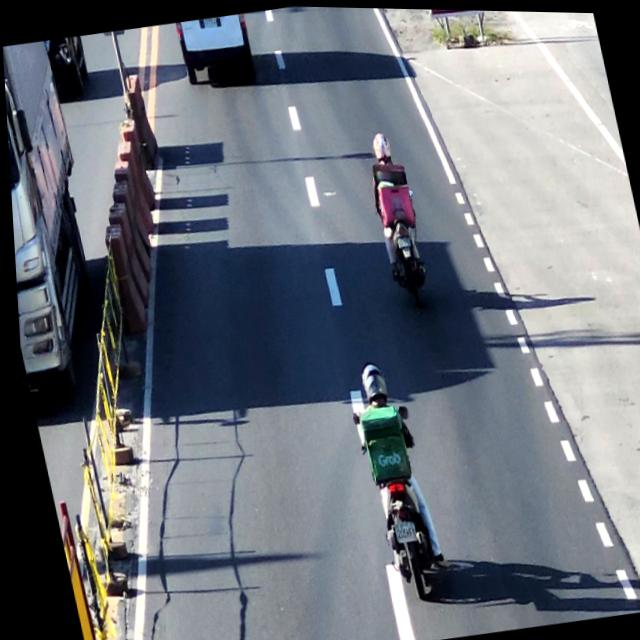Car: (173, 12, 257, 86)
License-Plate: (384, 514, 416, 549), (391, 232, 411, 251), (200, 15, 220, 31)
Motorcycle: (334, 351, 452, 607), (356, 124, 435, 320)
